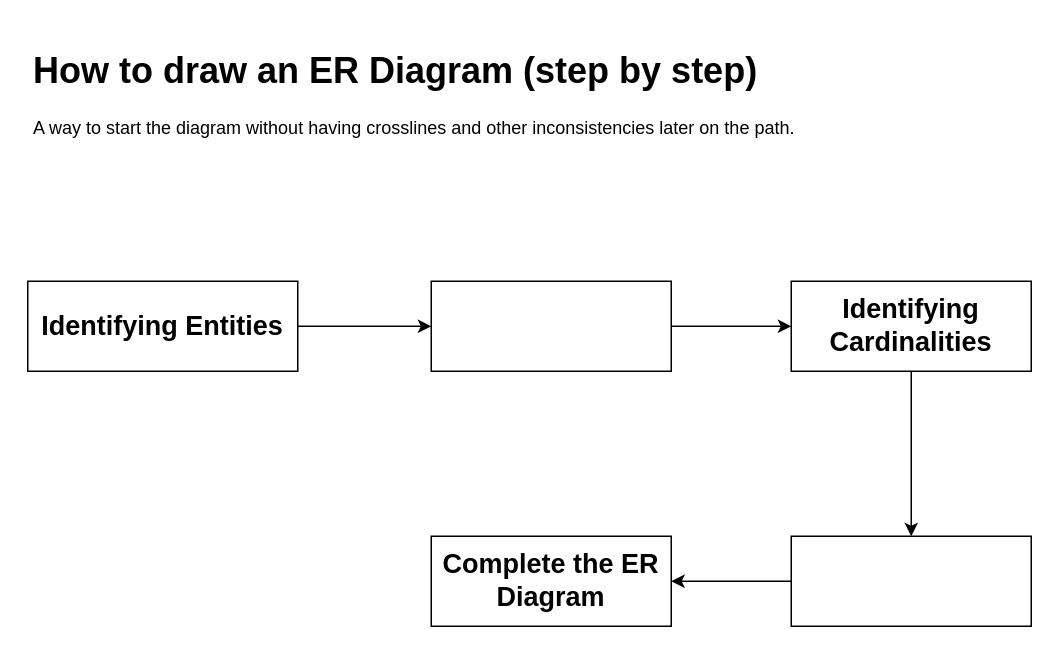
Some shapes in this 1058 by 653 pixel diagram are drawn without their labels. The box of each missing label's shape, as (x1, y1, x2, y2) in pixels:
Identifying Attributes: (790, 535, 1031, 626)
Identifying Relationships: (430, 280, 671, 371)
